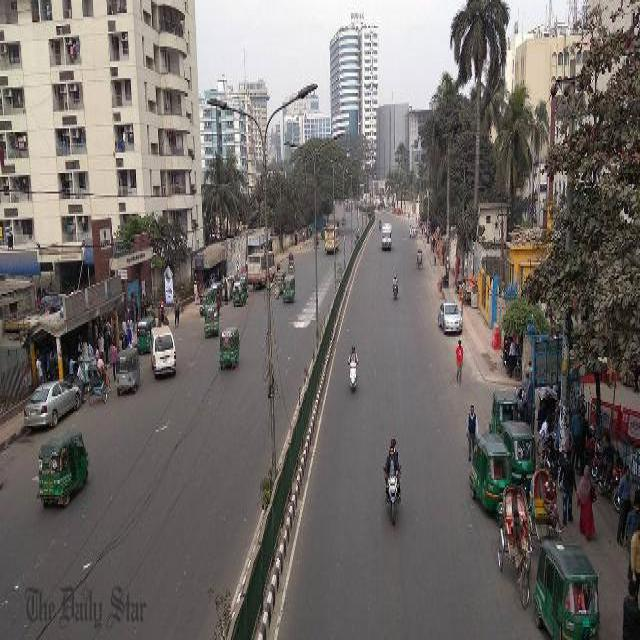bus: (246, 243, 274, 284), (323, 222, 339, 252), (380, 220, 392, 248)
car: (20, 372, 81, 424), (435, 296, 462, 335)
motorcycle: (532, 536, 597, 634), (35, 424, 89, 506), (502, 480, 530, 603), (468, 426, 501, 519), (530, 461, 559, 536), (595, 452, 623, 508), (112, 342, 140, 394), (381, 459, 403, 523), (510, 415, 536, 467), (85, 357, 110, 402), (217, 320, 240, 368), (581, 428, 600, 478), (486, 383, 519, 411), (536, 428, 553, 465), (203, 300, 219, 338), (345, 353, 359, 392), (230, 275, 247, 305), (135, 311, 149, 346), (282, 270, 295, 301), (513, 340, 521, 374), (414, 243, 424, 270), (198, 283, 212, 301), (285, 246, 295, 270), (274, 264, 282, 292), (389, 277, 398, 300), (312, 229, 319, 247), (376, 216, 381, 227), (340, 212, 345, 223)
truck: (149, 320, 176, 378)
